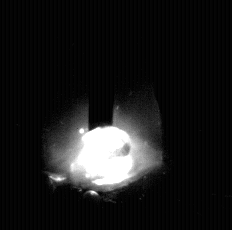arame: (89, 0, 114, 131)
poca: (43, 0, 163, 230)
